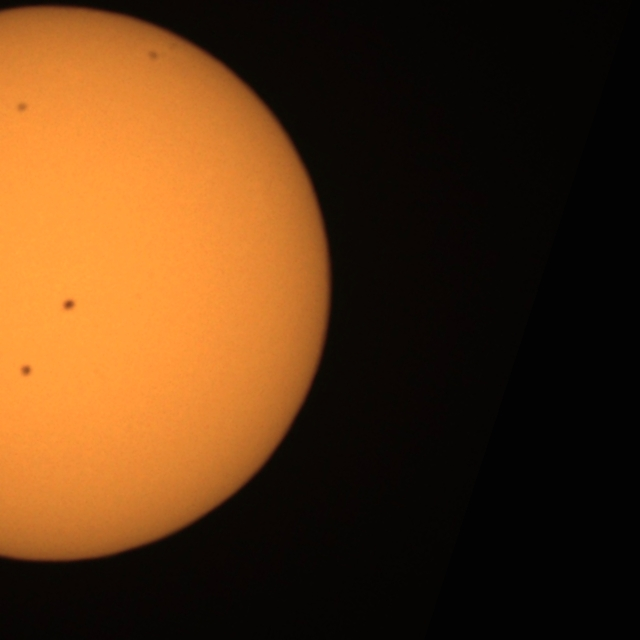sunspot: (60, 297, 78, 314), (18, 362, 34, 379), (146, 48, 162, 64), (14, 100, 30, 115)
